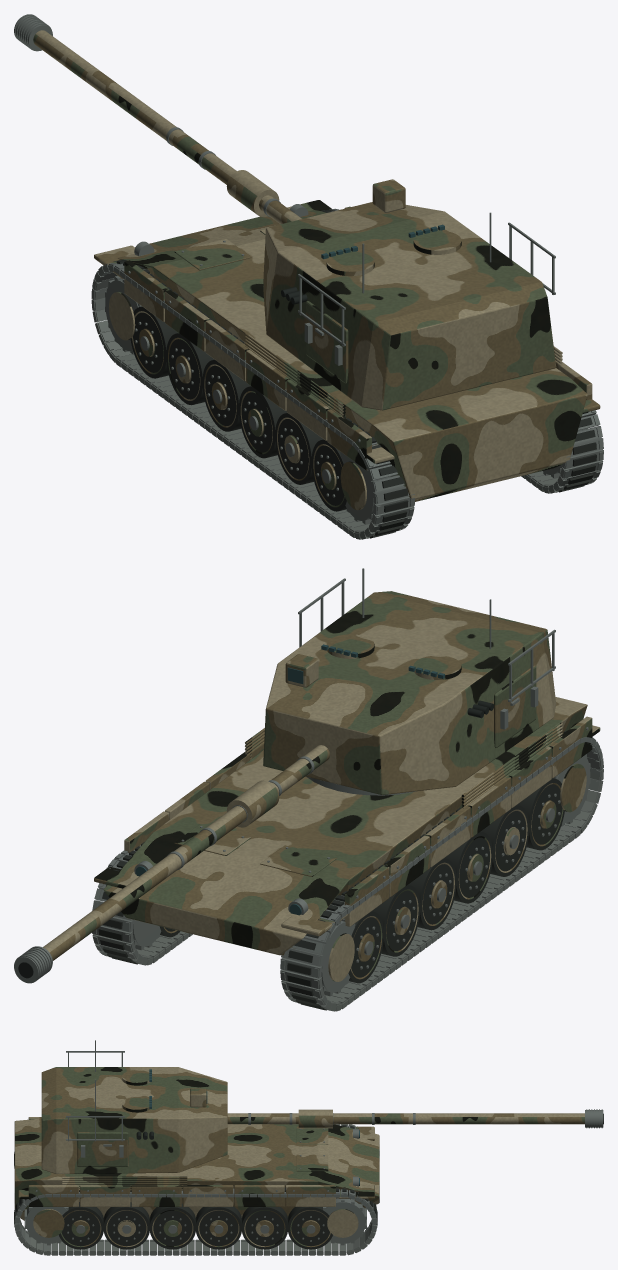
File: k9-photo-pbr.glb
3 renders of one model, top to bottom at view 1: azimuth 30°, elevation 25°; view 2: azimuth 150°, elevation 25°; view 3: azimuth 270°, elevation 25°, orthographic. The views are drawn at different scales.
Visible parts, largest first — view 1: Other_Other_Turret.001_Camouflage paint.001, Other_Other_Hull.001_Camouflage paint.001, Other_Other_Track_L.001_Track steel and fasteners.001, Other_Other_Gun.001_Camouflage paint.001, Other_Other_Track_R.001_Track steel and fasteners.001, Other_Other_Turret.001_Track steel and fasteners.001, Other_Other_Track_L.001_Camouflage paint.001, Other_Other_RoadWheel_-1_3.001_Rubber tires and pads.001, Other_Other_RoadWheel_-1_4.001_Rubber tires and pads.001, Other_Other_RoadWheel_-1_5.001_Rubber tires and pads.001, Other_Other_RoadWheel_-1_2.001_Rubber tires and pads.001, Other_Other_RoadWheel_-1_6.001_Rubber tires and pads.001 (+5 smaller); view 2: Other_Other_Hull.001_Camouflage paint.001, Other_Other_Turret.001_Camouflage paint.001, Other_Other_Track_L.001_Track steel and fasteners.001, Other_Other_Gun.001_Camouflage paint.001, Other_Other_Track_R.001_Track steel and fasteners.001, Other_Other_Track_L.001_Camouflage paint.001, Other_Other_Turret.001_Track steel and fasteners.001, Other_Other_RoadWheel_-1_4.001_Rubber tires and pads.001, Other_Other_RoadWheel_-1_3.001_Rubber tires and pads.001, Other_Other_RoadWheel_-1_5.001_Rubber tires and pads.001, Other_Other_RoadWheel_-1_2.001_Rubber tires and pads.001, Other_Other_RoadWheel_-1_1.001_Rubber tires and pads.001 (+8 smaller); view 3: Other_Other_Hull.001_Camouflage paint.001, Other_Other_Turret.001_Camouflage paint.001, Other_Other_Track_R.001_Track steel and fasteners.001, Other_Other_Gun.001_Camouflage paint.001, Other_Other_Track_R.001_Camouflage paint.001, Other_Other_RoadWheel_1_2.001_Rubber tires and pads.001, Other_Other_RoadWheel_1_3.001_Rubber tires and pads.001, Other_Other_RoadWheel_1_5.001_Rubber tires and pads.001, Other_Other_RoadWheel_1_4.001_Rubber tires and pads.001, Other_Other_RoadWheel_1_1.001_Rubber tires and pads.001, Other_Other_RoadWheel_1_6.001_Rubber tires and pads.001, Other_Other_Turret.001_Track steel and fasteners.001 (+9 smaller).
Boxes of the visible parts, x1,y1,x2,y2 form: Other_Other_Turret.001_Camouflage paint.001: (263,179,556,410); Other_Other_Hull.001_Camouflage paint.001: (94,200,600,501); Other_Other_Track_L.001_Track steel and fasteners.001: (91,263,414,539); Other_Other_Gun.001_Camouflage paint.001: (33,30,301,224); Other_Other_Track_R.001_Track steel and fasteners.001: (329,208,603,493); Other_Other_Turret.001_Track steel and fasteners.001: (298,212,555,365); Other_Other_Track_L.001_Camouflage paint.001: (108,292,366,510); Other_Other_RoadWheel_-1_3.001_Rubber tires and pads.001: (238,386,286,458); Other_Other_RoadWheel_-1_4.001_Rubber tires and pads.001: (202,359,250,431); Other_Other_RoadWheel_-1_5.001_Rubber tires and pads.001: (166,333,214,405); Other_Other_RoadWheel_-1_2.001_Rubber tires and pads.001: (275,413,323,484); Other_Other_RoadWheel_-1_6.001_Rubber tires and pads.001: (130,306,177,378); Other_Other_Hull.001_Camouflage paint.001: (94,697,600,955); Other_Other_Turret.001_Camouflage paint.001: (263,591,556,795); Other_Other_Track_L.001_Track steel and fasteners.001: (280,737,603,1011); Other_Other_Gun.001_Camouflage paint.001: (43,745,329,960); Other_Other_Track_R.001_Track steel and fasteners.001: (92,845,192,965); Other_Other_Track_L.001_Camouflage paint.001: (328,763,586,981); Other_Other_Turret.001_Track steel and fasteners.001: (298,568,555,729); Other_Other_RoadWheel_-1_4.001_Rubber tires and pads.001: (408,858,456,930); Other_Other_RoadWheel_-1_3.001_Rubber tires and pads.001: (445,831,492,903); Other_Other_RoadWheel_-1_5.001_Rubber tires and pads.001: (372,884,420,956); Other_Other_RoadWheel_-1_2.001_Rubber tires and pads.001: (481,805,529,876); Other_Other_RoadWheel_-1_1.001_Rubber tires and pads.001: (517,778,564,850); Other_Other_Hull.001_Camouflage paint.001: (14,1117,379,1220); Other_Other_Turret.001_Camouflage paint.001: (41,1067,227,1173); Other_Other_Track_R.001_Track steel and fasteners.001: (14,1188,377,1255); Other_Other_Gun.001_Camouflage paint.001: (227,1109,584,1128); Other_Other_Track_R.001_Camouflage paint.001: (33,1209,358,1237); Other_Other_RoadWheel_1_2.001_Rubber tires and pads.001: (103,1202,149,1249); Other_Other_RoadWheel_1_3.001_Rubber tires and pads.001: (149,1203,195,1249); Other_Other_RoadWheel_1_5.001_Rubber tires and pads.001: (241,1207,287,1249); Other_Other_RoadWheel_1_4.001_Rubber tires and pads.001: (195,1206,241,1249); Other_Other_RoadWheel_1_1.001_Rubber tires and pads.001: (59,1202,103,1249); Other_Other_RoadWheel_1_6.001_Rubber tires and pads.001: (287,1207,332,1249); Other_Other_Turret.001_Track steel and fasteners.001: (66,1040,124,1157).
Bounding box in the file's own units: 3.43 × 3.62 × 12.04.
5 materials, 1 textured.
